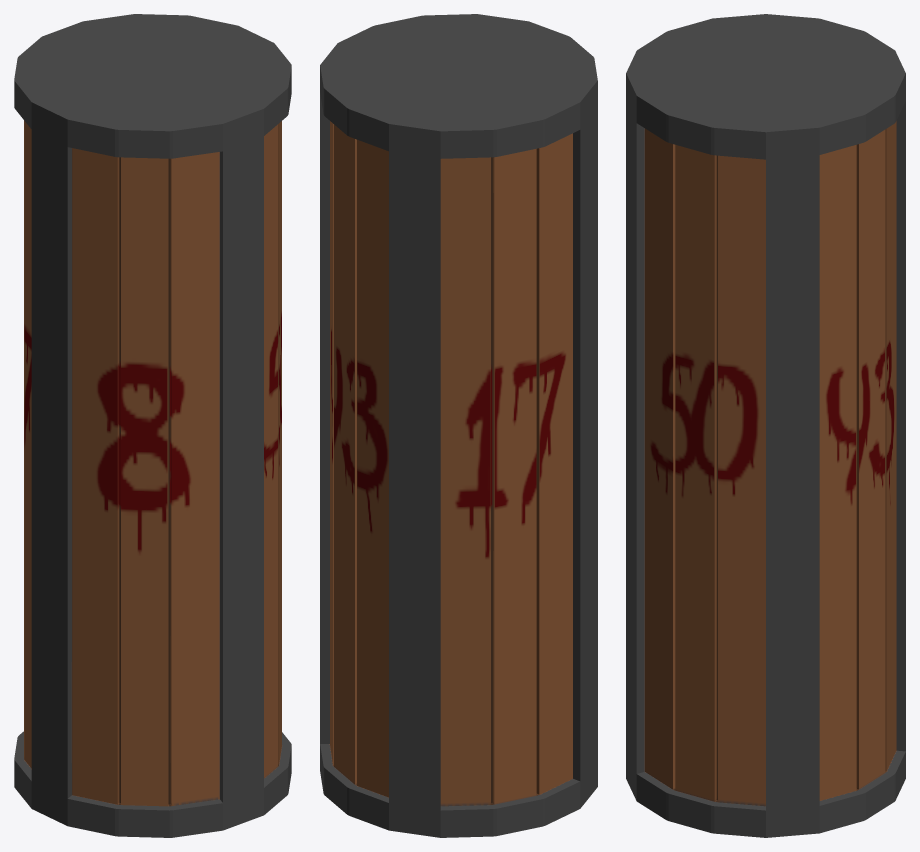
The model's file is CylinderDegrees.fbx.
The picture shows the model from 3 angles, left to right: view 1: azimuth 30°, elevation 25°; view 2: azimuth 150°, elevation 25°; view 3: azimuth 270°, elevation 25°; orthographic projection.
Visible parts, largest first — view 1: CylinderDegrees; view 2: CylinderDegrees; view 3: CylinderDegrees.
Boxes of the visible parts, x1,y1,x2,y2 form: CylinderDegrees: (14,14,291,837); CylinderDegrees: (320,14,597,837); CylinderDegrees: (626,14,905,837).
Size of the model in its own units: 221 by 614 by 221.
Materials: 1 (1 with a texture image).
